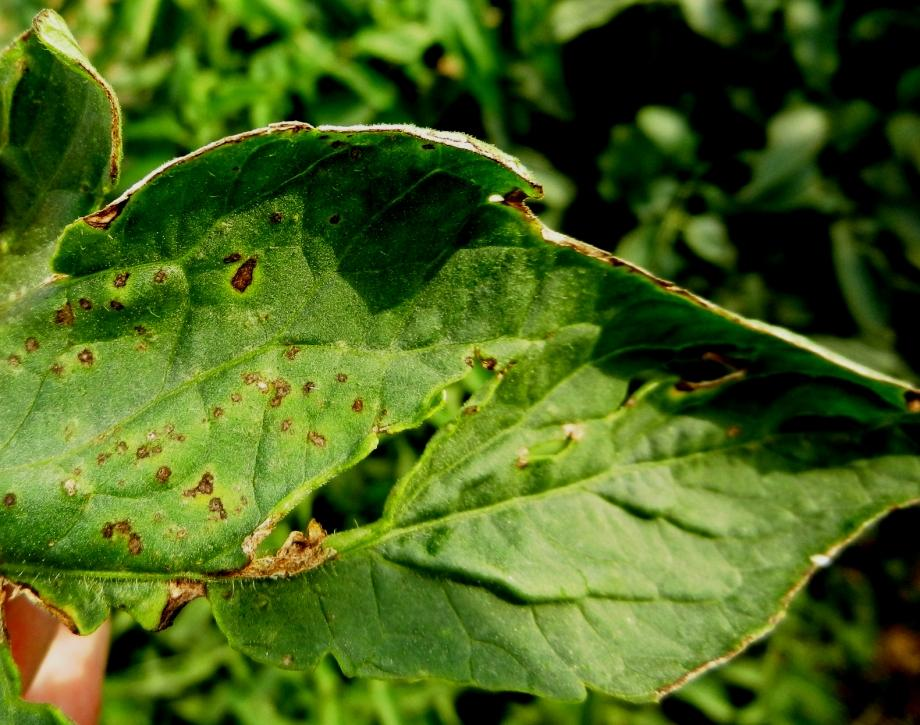Tomato leaf late blight: (16, 91, 905, 685)
